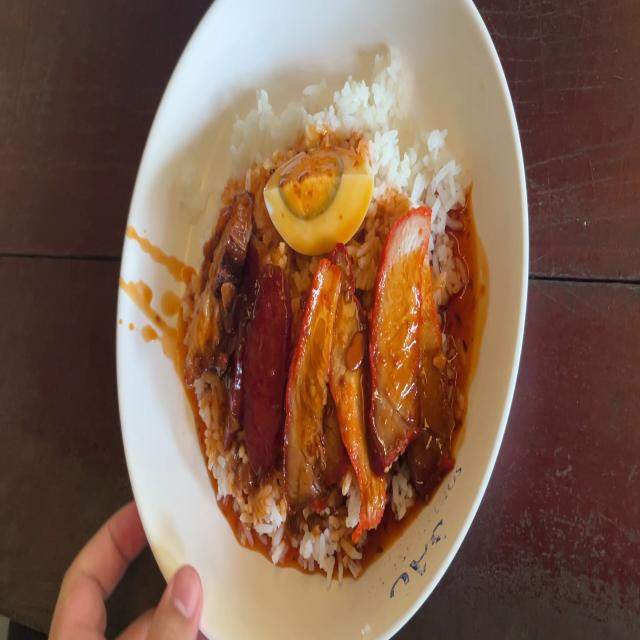red_pork_and_crispy_pork: (270, 146, 380, 252)
stir_fried_basil: (241, 271, 291, 473)
